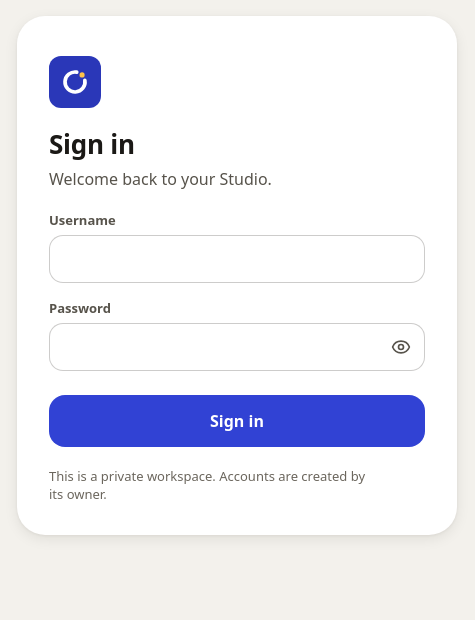
Test: the sign-in form › gives one generic message for any refused credentials and keeps what was typed
Type "ada" into the field labelled "Username".
click(237, 259); type("ada")  # box left=49, top=235, right=425, bottom=283
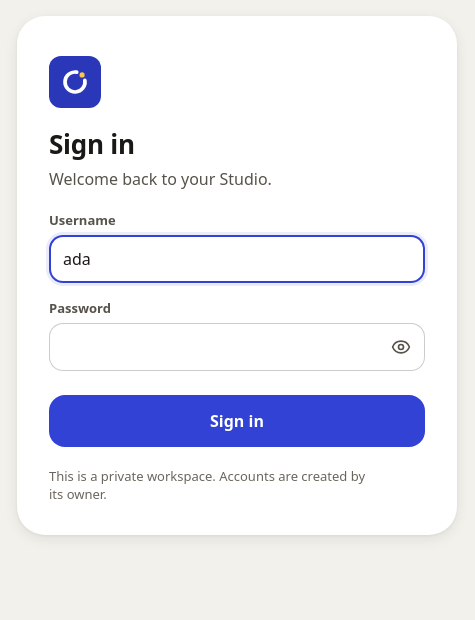
Type "wrong password" into the password field labelled "Password".
click(214, 347); type("wrong password")  # box left=49, top=323, right=379, bottom=371
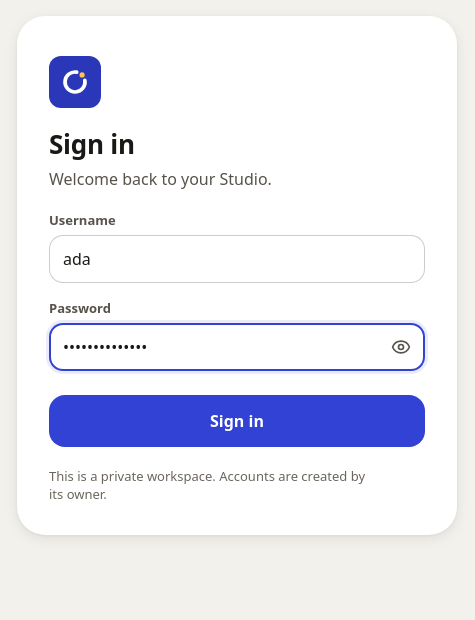
Click the button "Sign in".
click(237, 421)  # box left=49, top=395, right=425, bottom=447
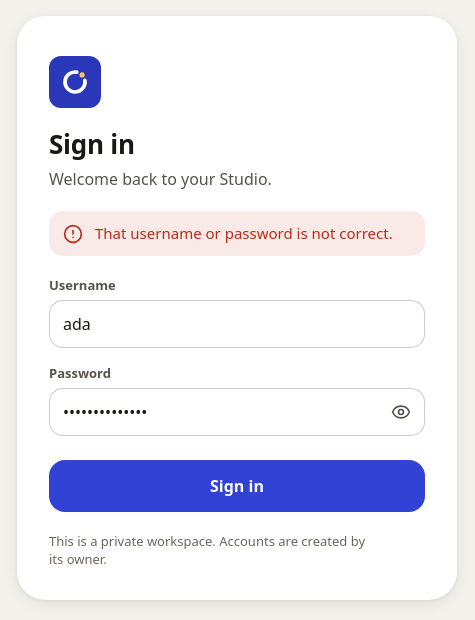
Expected: the button "Sign in" is enabled, left=49, top=460, right=425, bottom=512
Expected: the message reads "That username or password is not correct.", left=95, top=223, right=393, bottom=243
